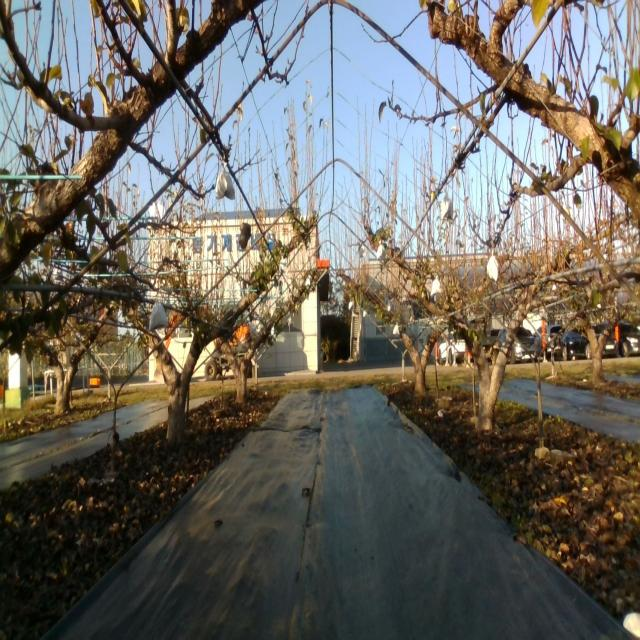pearbags: (146, 299, 168, 333), (216, 160, 234, 200), (486, 250, 498, 281), (441, 194, 452, 220), (430, 276, 440, 296)
